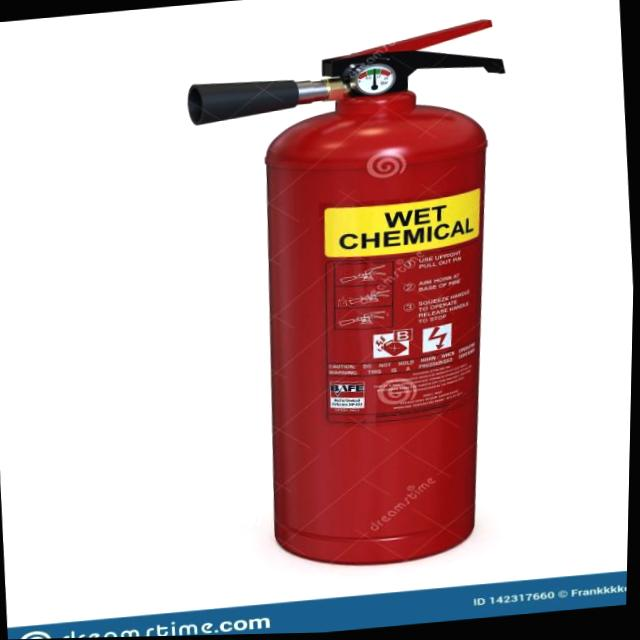FireExtinguisher: (166, 15, 544, 583)
